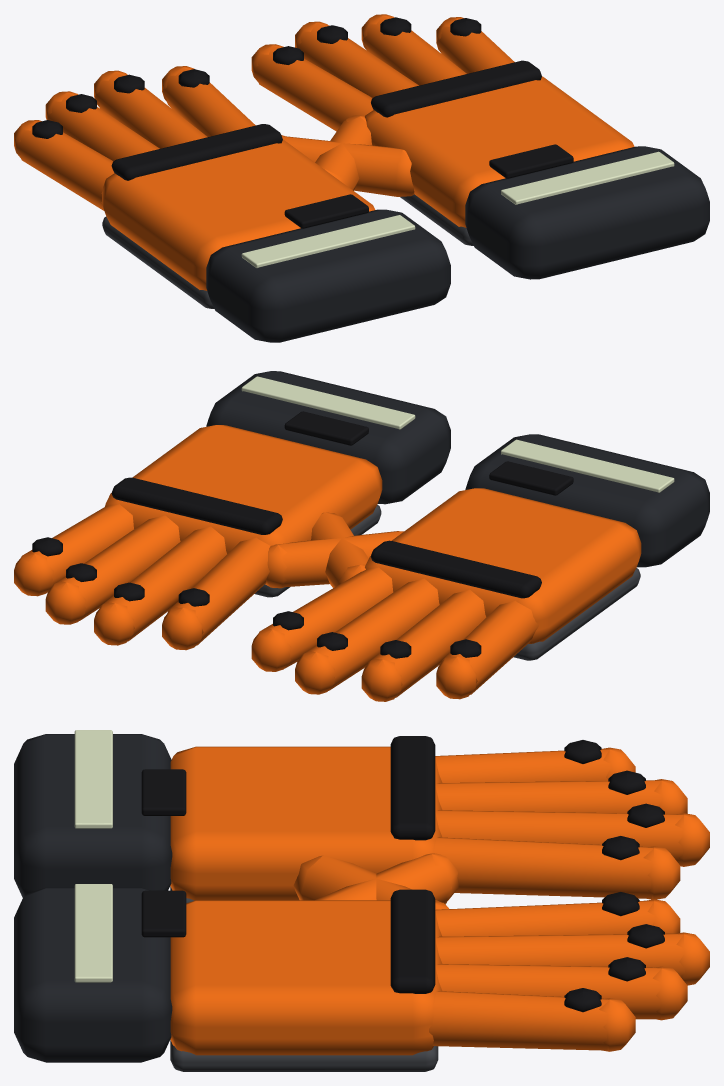
File: WorkGloves.obj
3 renders of one model, top to bottom at view 1: azimuth 30°, elevation 25°; view 2: azimuth 150°, elevation 25°; view 3: azimuth 270°, elevation 25°, orthographic. The views are drawn at different scales.
Bounding box in the file's own units: 0.2028 × 0.034 × 0.2181.
